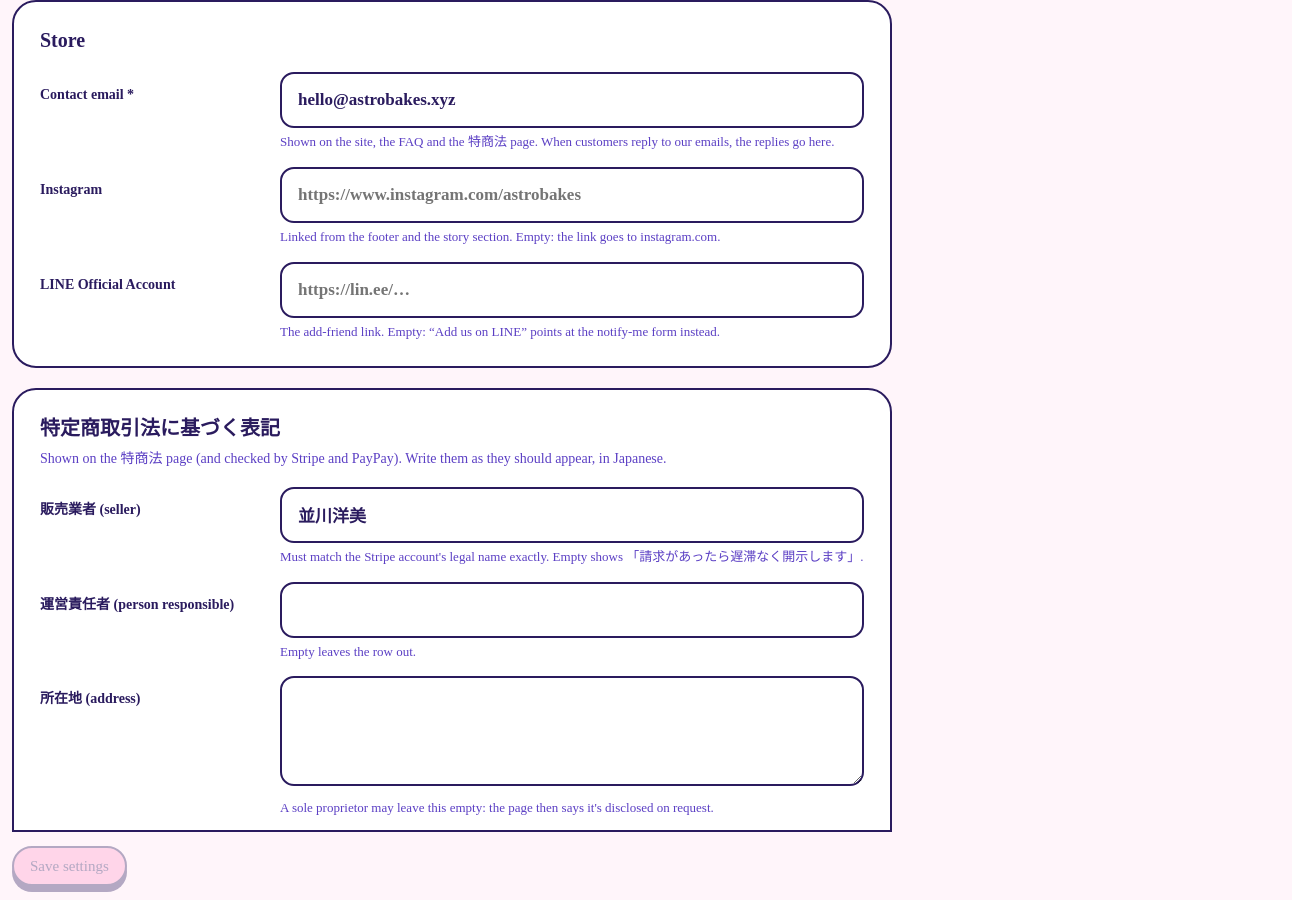
it: SettingsForm › marks the fields the server turned down, focuses the first, and clears a mark once it's edited
The image size is (1292, 900).
Clear the field labelled "Contact email *": [572, 100] box [280,72,864,128]
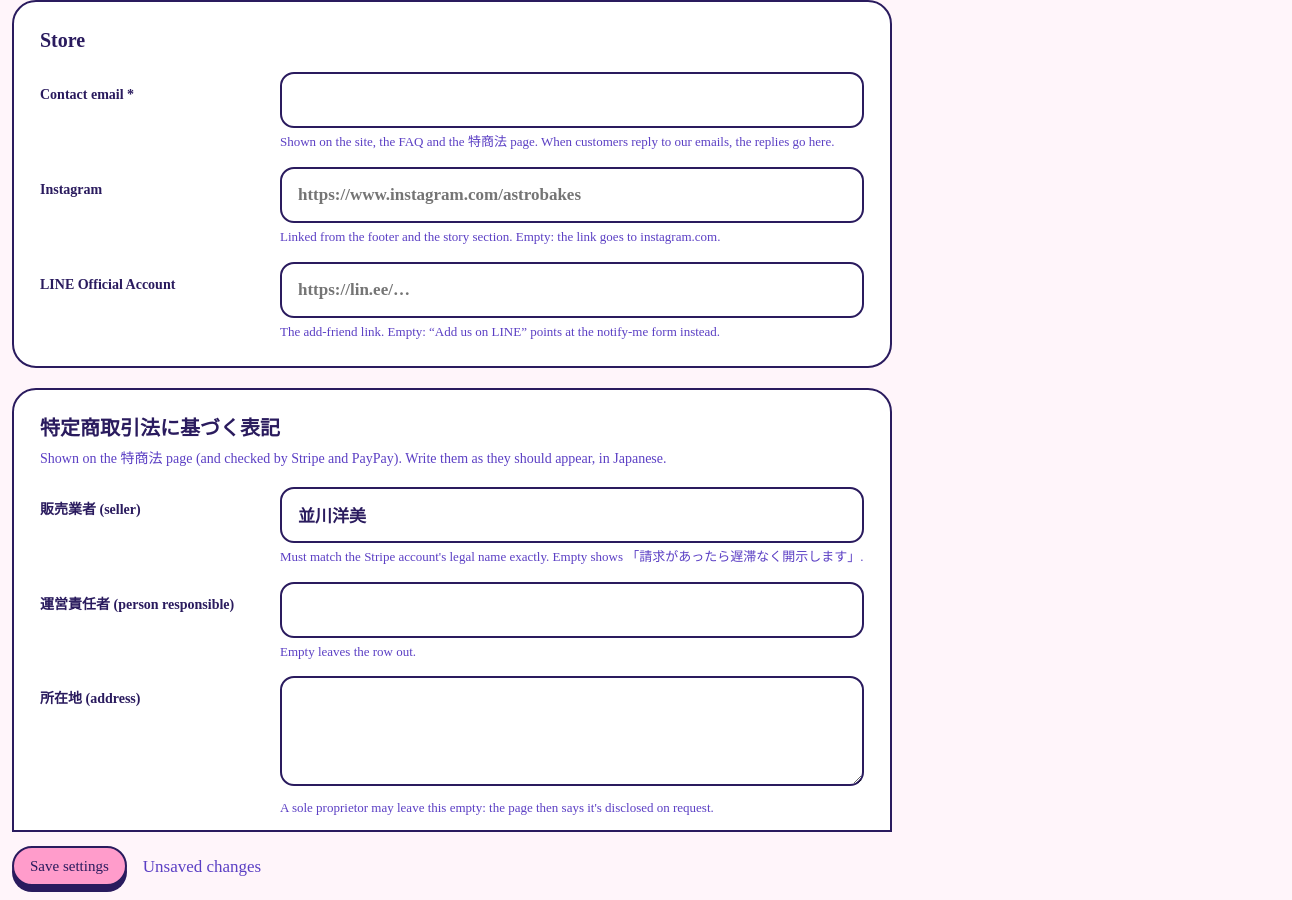
Click the button "Save settings": [69, 866] box [12,846,127,886]
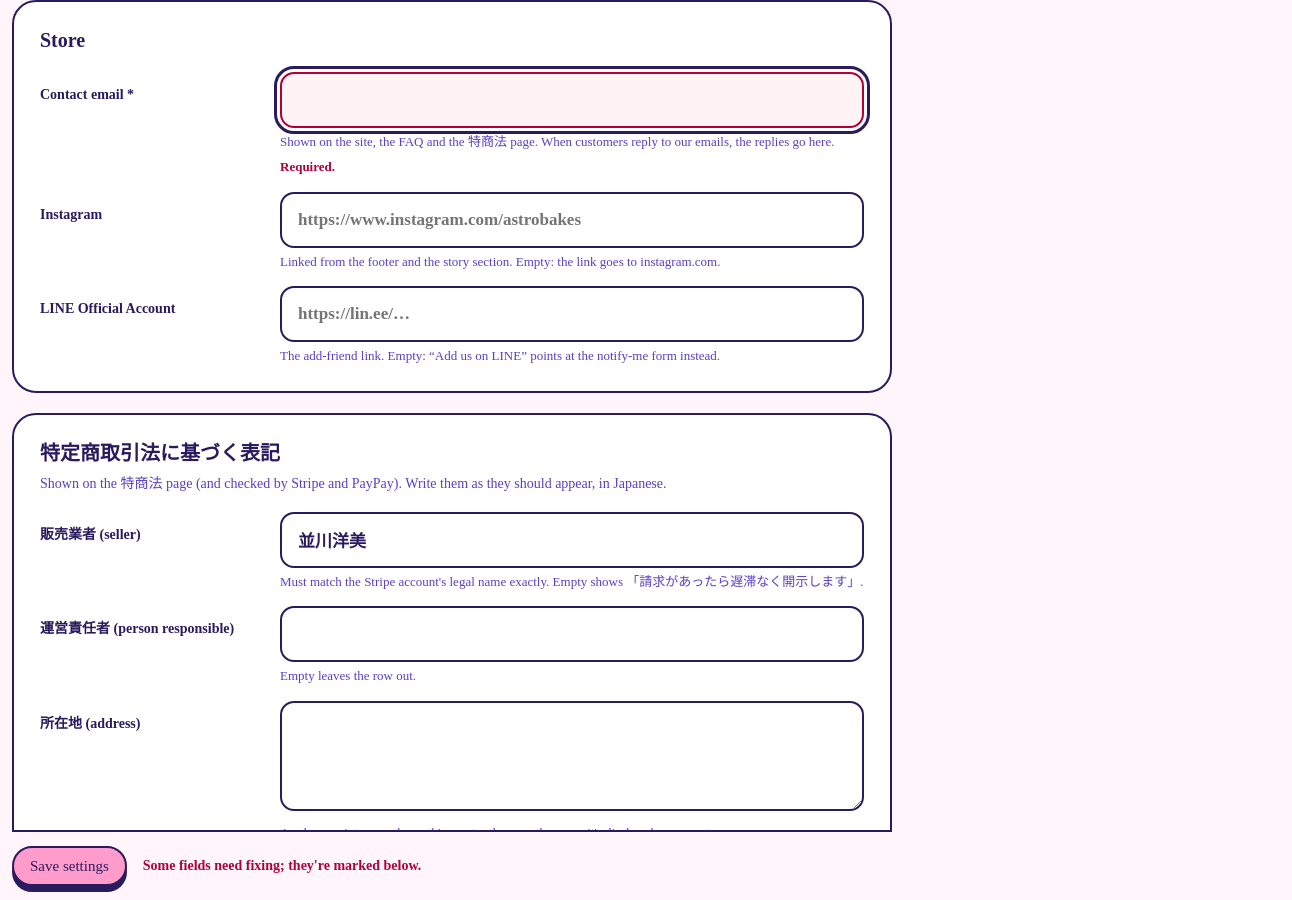
Check: the text "Required." is shown, box [280,159,335,174]
Check: the message shows "need fixing", box [143,858,421,873]
In the field labelled "Contact email *": [572, 100] box [280,72,864,128], type "hello@astrobakes.xyz"
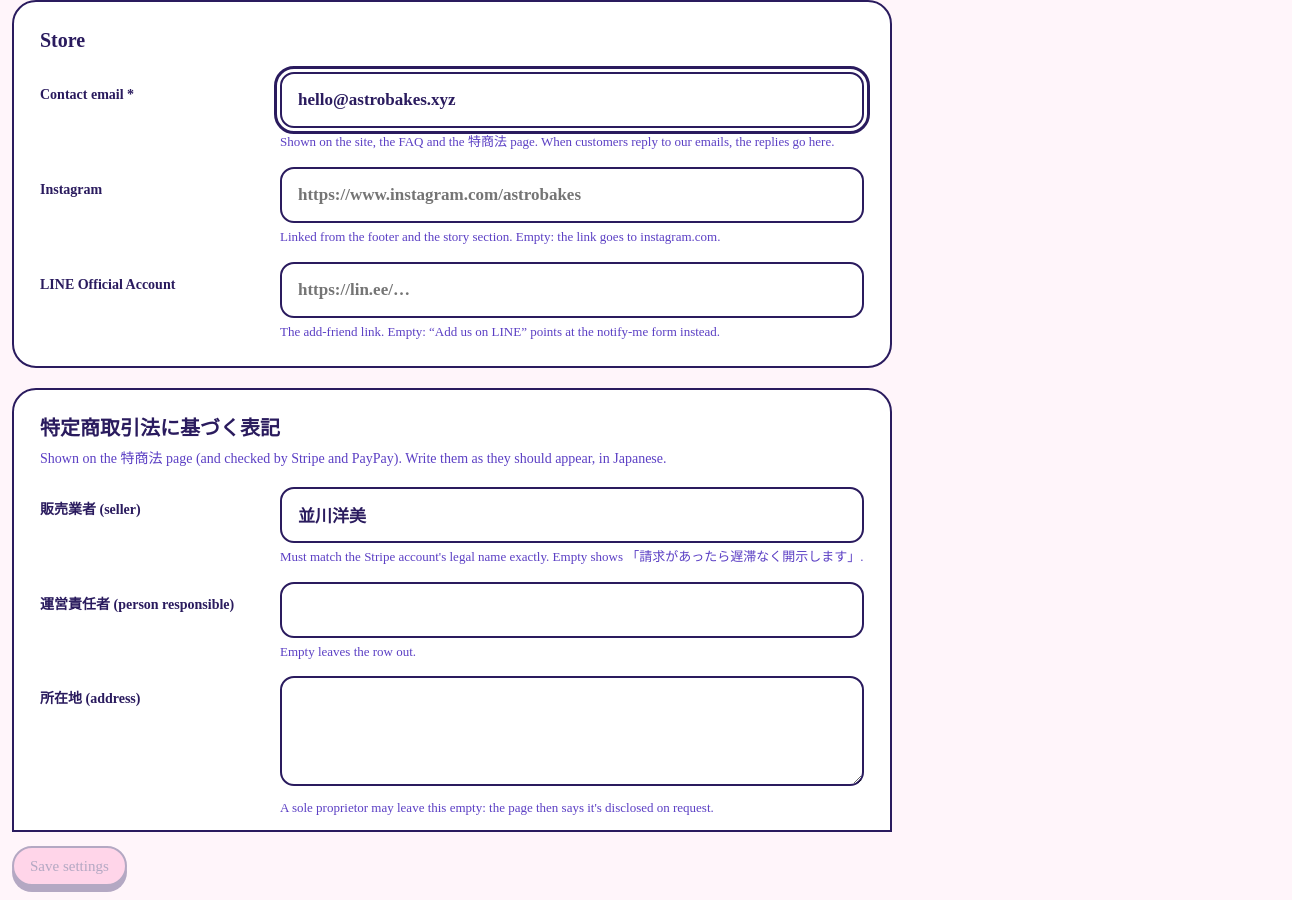
Check: the text "Required." is gone
